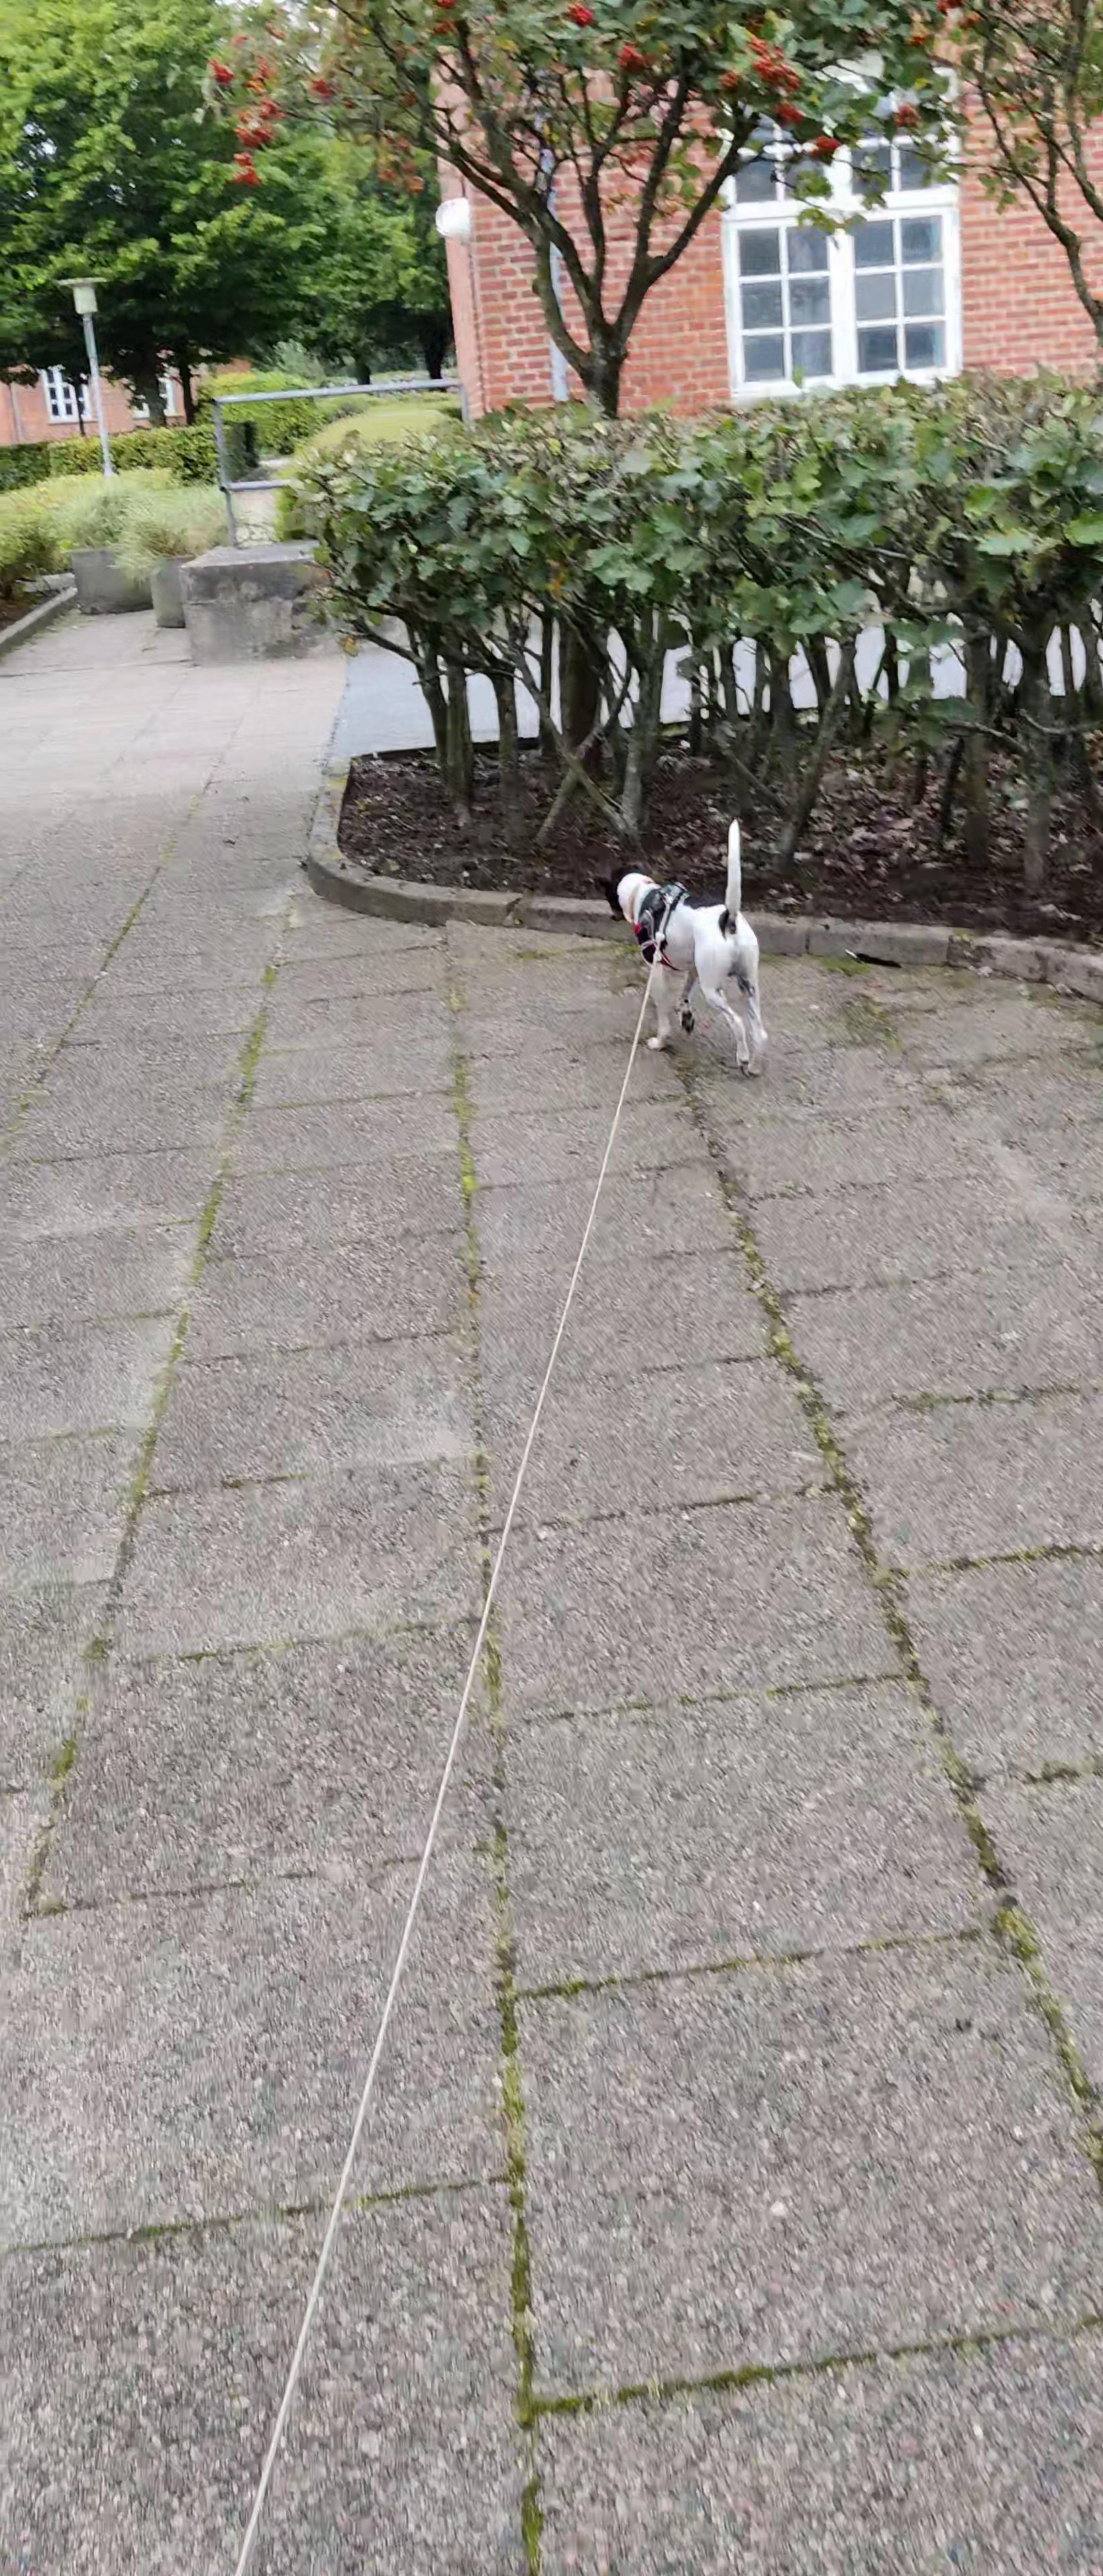Dog: (588, 813, 773, 1079)
